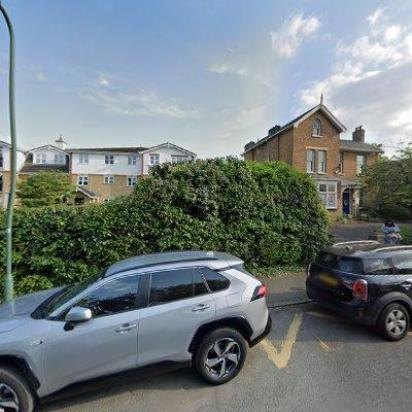stationary-car-onstreet: (0, 247, 272, 401), (304, 240, 410, 340)
